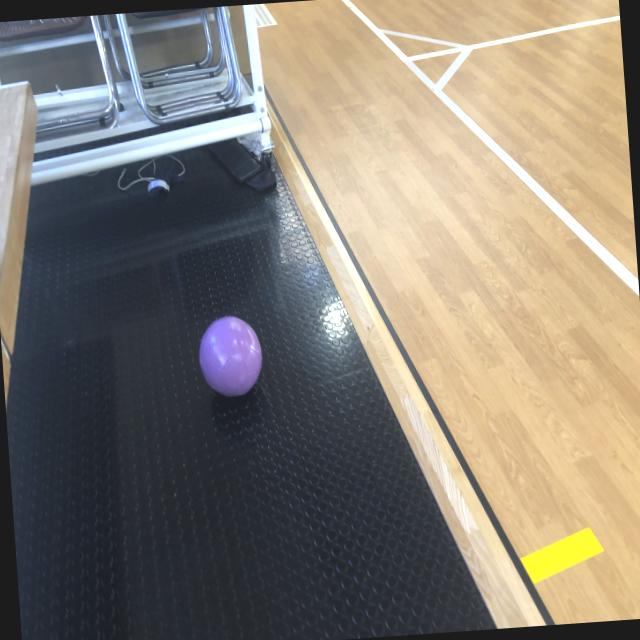purple_ball: (196, 312, 264, 396)
